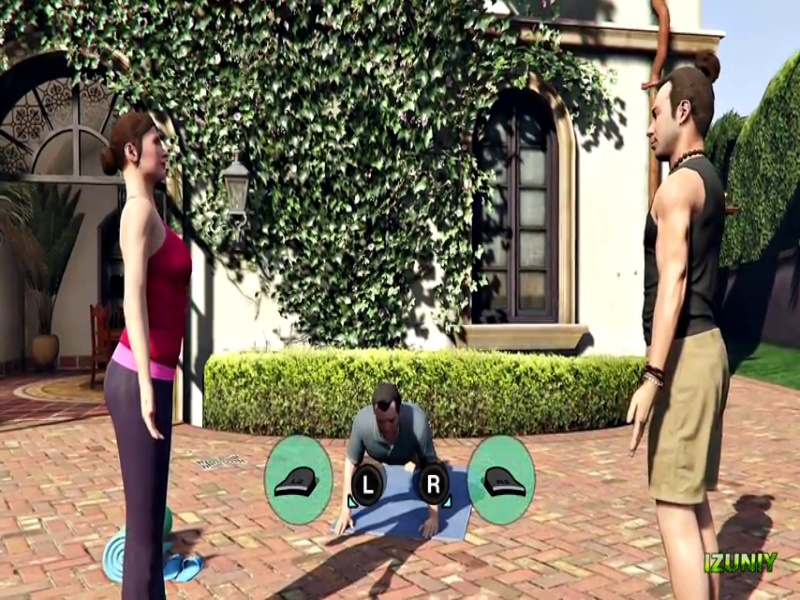human: (342, 373, 458, 525)
